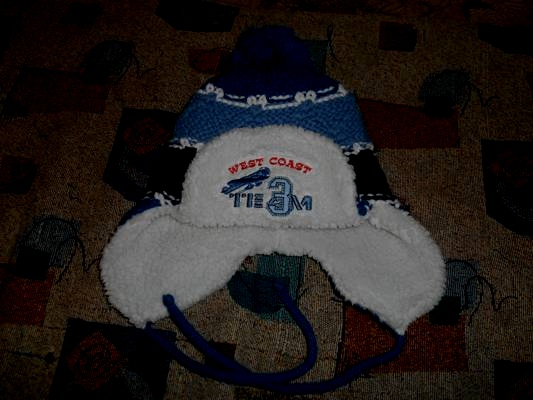Hat: (85, 23, 470, 357)
